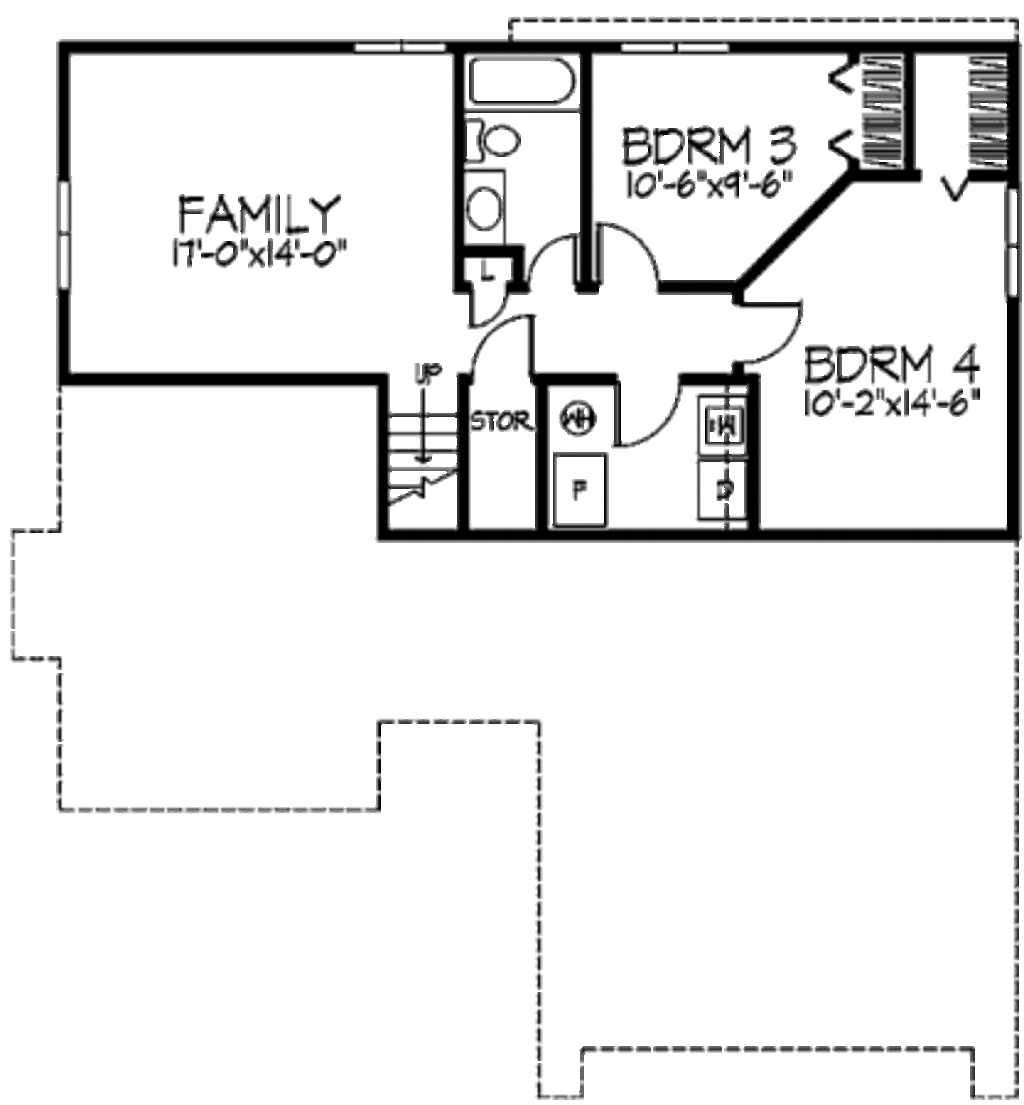door: (452, 305, 544, 384), (728, 288, 811, 374), (581, 214, 671, 291), (611, 372, 683, 455), (444, 267, 523, 333), (513, 222, 580, 290)
large_sink: (456, 110, 531, 167)
small_sink: (456, 171, 507, 246)
stairs: (375, 369, 459, 531)
tub: (457, 57, 581, 102)
window: (38, 176, 90, 295), (342, 22, 459, 69), (995, 181, 1024, 302), (613, 38, 728, 62)
